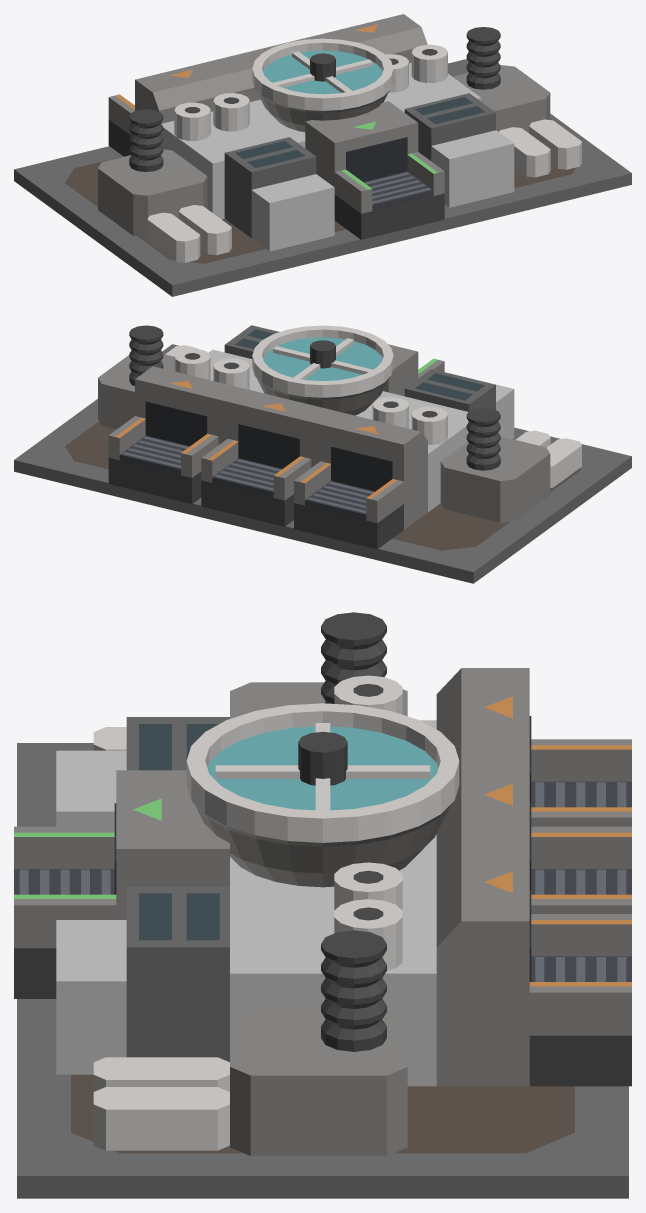
File: vfef_medicine.obj
The picture shows the model from 3 angles, top to bottom: view 1: azimuth 30°, elevation 25°; view 2: azimuth 150°, elevation 25°; view 3: azimuth 270°, elevation 25°; orthographic projection. The views are drawn at different scales.
Visible parts, largest first — view 1: vfef_medicine_0, vfef_medicine_2, vfef_medicine_28, vfef_medicine_29, vfef_medicine_37, vfef_medicine_48, vfef_medicine_52, vfef_medicine_57, vfef_medicine_35, vfef_medicine_40, vfef_medicine_59, vfef_medicine_1 (+24 smaller); view 2: vfef_medicine_0, vfef_medicine_2, vfef_medicine_29, vfef_medicine_52, vfef_medicine_1, vfef_medicine_28, vfef_medicine_4, vfef_medicine_53, vfef_medicine_20, vfef_medicine_12, vfef_medicine_40, vfef_medicine_27 (+31 smaller); view 3: vfef_medicine_0, vfef_medicine_2, vfef_medicine_40, vfef_medicine_28, vfef_medicine_52, vfef_medicine_46, vfef_medicine_1, vfef_medicine_57, vfef_medicine_48, vfef_medicine_53, vfef_medicine_50, vfef_medicine_51 (+32 smaller).
Part boxes in pixels (x1,y1,x2,y2): vfef_medicine_0: (14,59,631,296); vfef_medicine_2: (135,14,427,123); vfef_medicine_28: (161,63,481,219); vfef_medicine_29: (98,149,207,237); vfef_medicine_37: (251,174,334,251); vfef_medicine_48: (431,130,514,207); vfef_medicine_52: (252,38,393,110); vfef_medicine_57: (305,101,418,186); vfef_medicine_35: (224,137,316,237); vfef_medicine_40: (453,65,550,132); vfef_medicine_59: (334,193,444,239); vfef_medicine_1: (65,156,575,263); vfef_medicine_0: (14,344,631,583); vfef_medicine_2: (135,366,427,529); vfef_medicine_29: (440,436,550,522); vfef_medicine_52: (252,325,393,397); vfef_medicine_1: (65,421,580,550); vfef_medicine_28: (208,349,468,511); vfef_medicine_4: (294,503,403,549); vfef_medicine_53: (263,337,382,380); vfef_medicine_20: (108,458,201,503); vfef_medicine_12: (201,480,293,526); vfef_medicine_40: (98,354,174,429); vfef_medicine_27: (145,401,207,446); vfef_medicine_0: (17,743,628,1198); vfef_medicine_2: (436,668,529,1086); vfef_medicine_40: (230,1005,407,1155); vfef_medicine_28: (230,720,436,1086); vfef_medicine_52: (186,703,459,842); vfef_medicine_46: (126,886,229,1062); vfef_medicine_1: (71,1074,574,1153); vfef_medicine_57: (116,770,229,919); vfef_medicine_48: (56,920,126,1074); vfef_medicine_53: (207,726,438,810); vfef_medicine_50: (93,1087,229,1150); vfef_medicine_51: (193,802,452,887).
Bounding box in the file's own units: 4.96 × 1.28 × 2.99.
